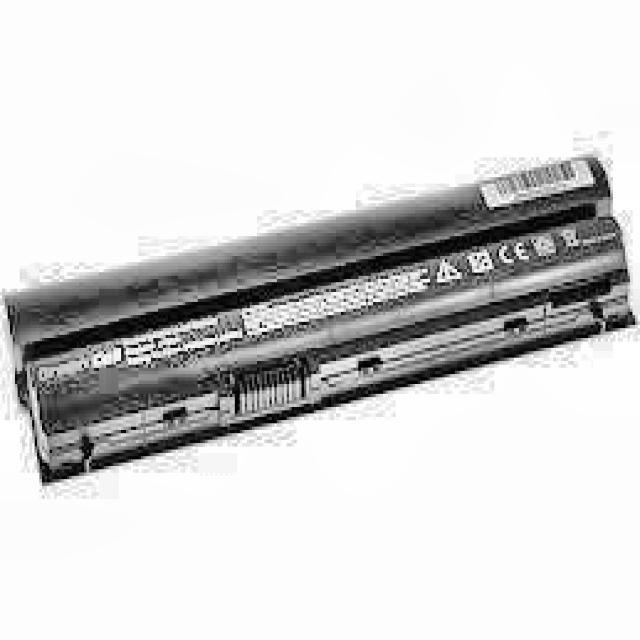Battery: (0, 148, 640, 499)
